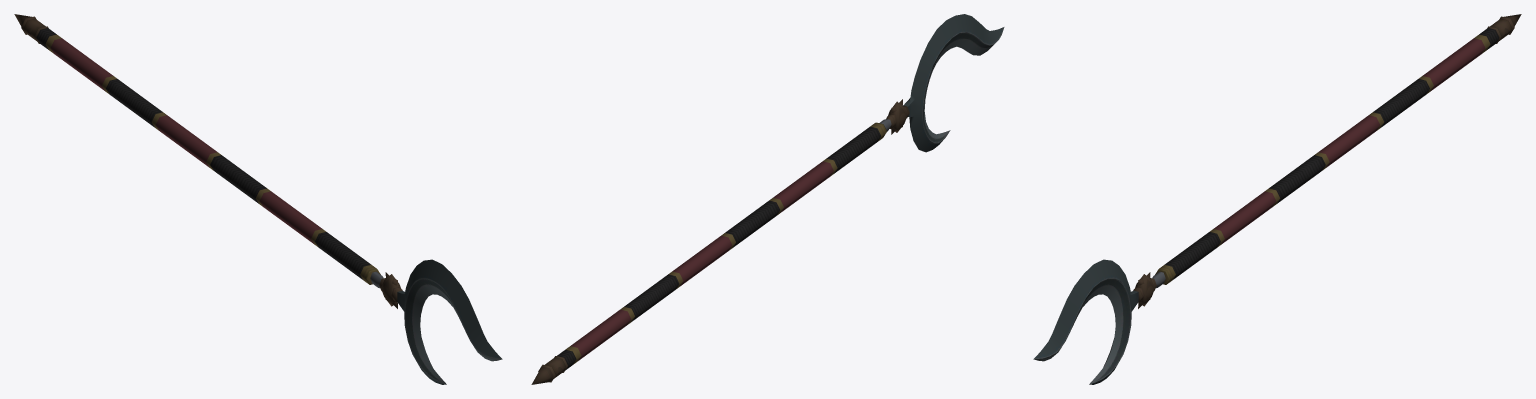
Rendered from Weapon_Spear_037.glb.
3 renders of one model, left to right at view 1: azimuth 30°, elevation 25°; view 2: azimuth 150°, elevation 25°; view 3: azimuth 330°, elevation 25°, orthographic. The views are drawn at different scales.
Visible parts, largest first — view 1: Weapon_Spear_037; view 2: Weapon_Spear_037; view 3: Weapon_Spear_037.
Boxes of the visible parts, <box> form: Weapon_Spear_037: <box>14,14,502,384</box>; Weapon_Spear_037: <box>531,14,1004,384</box>; Weapon_Spear_037: <box>1033,14,1521,384</box>.
Bounding box in the file's own units: 0.0576 × 0.3759 × 2.69.
2 materials, 2 textured.
